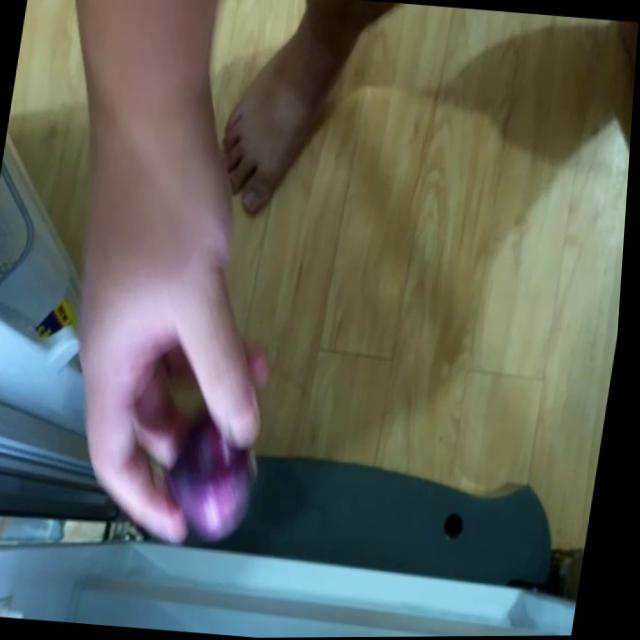onion: (153, 423, 264, 545)
